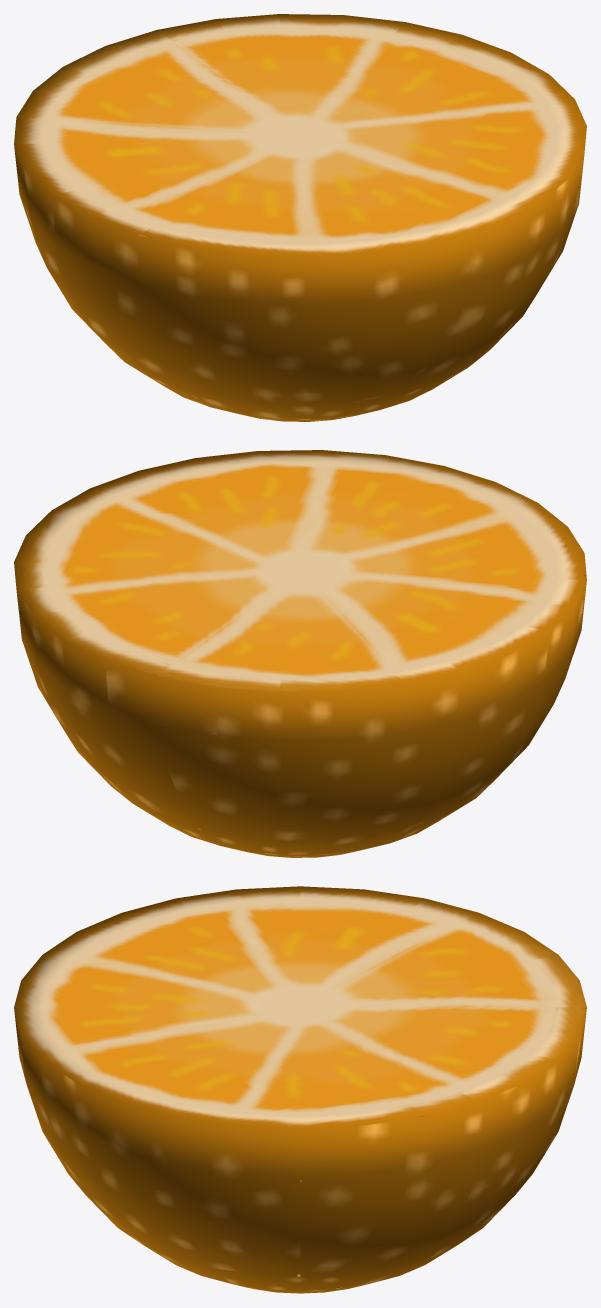
Rendered from Laranja_Metade.fbx.
The picture shows the model from 3 angles, top to bottom: view 1: azimuth 30°, elevation 25°; view 2: azimuth 150°, elevation 25°; view 3: azimuth 270°, elevation 25°; orthographic projection.
Parts seen in each view (by area): view 1: Laranja; view 2: Laranja; view 3: Laranja.
Boxes of the visible parts, x1,y1,x2,y2 form: Laranja: (14,14,586,421); Laranja: (14,450,586,857); Laranja: (14,886,586,1293).
Bounding box in the file's own units: 37.01 × 18.5 × 37.01.
